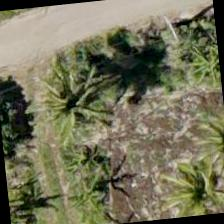Kelapa_Sawit: (39, 38, 138, 137), (166, 118, 223, 216)
